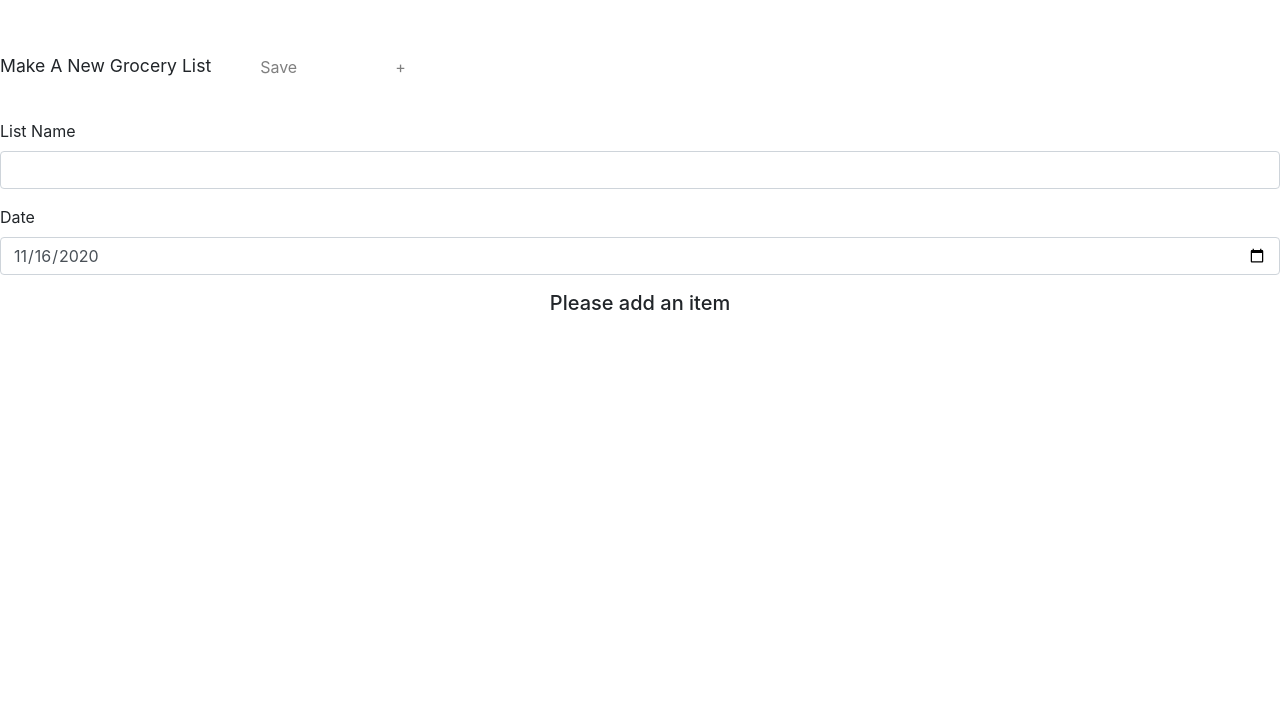
Scenario: prevent saving without adding a list name
This screenshot has width=1280, height=720.
Expected: the field with test id "list-name" is empty, left=0, top=151, right=1279, bottom=189
Click the button with test id "save-button".
click(279, 67)  # box left=243, top=48, right=314, bottom=87
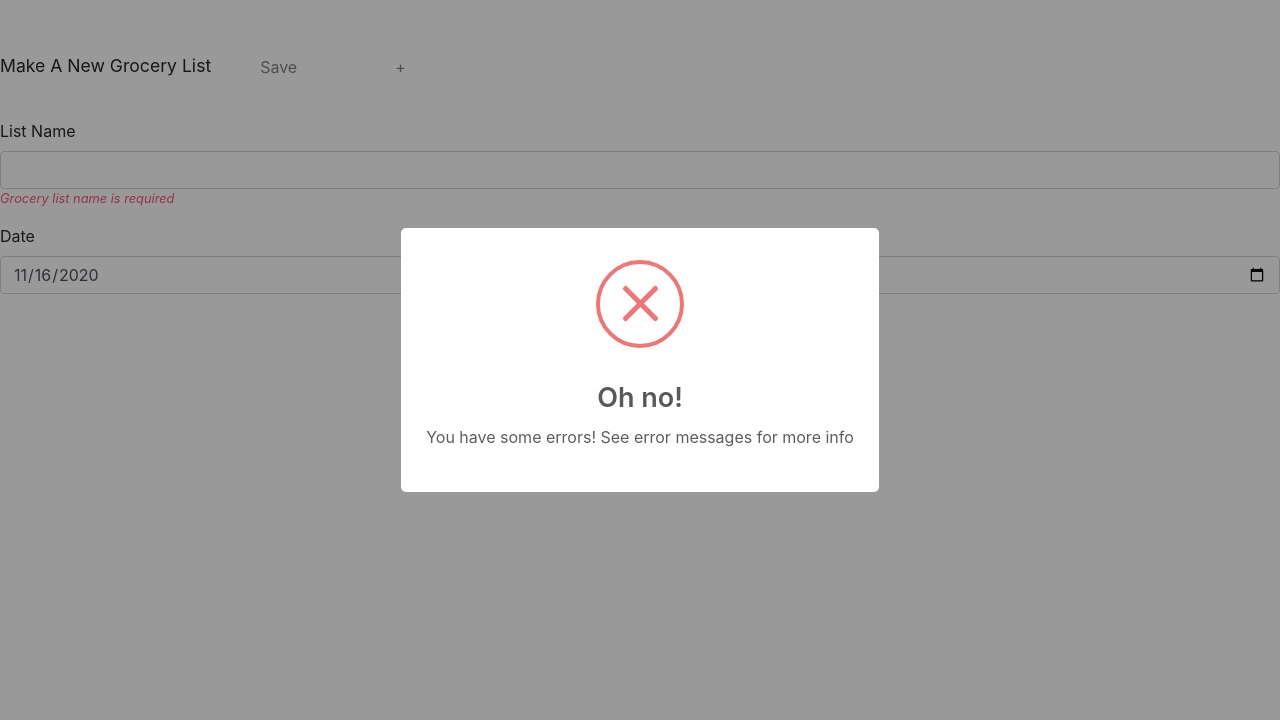
Now the text with test id "name-error" reads "Grocery list name is required", box left=0, top=191, right=174, bottom=206
